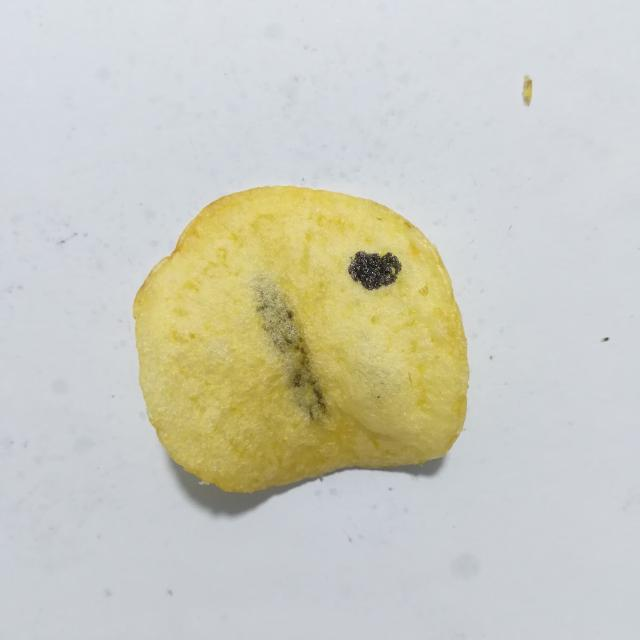chip: (134, 186, 469, 492)
damaged: (348, 251, 402, 290)
semi-damaged: (253, 275, 326, 419)
